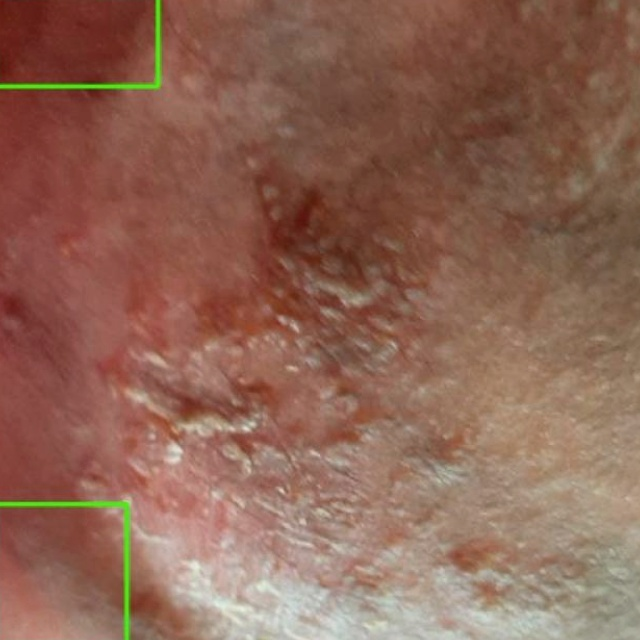Seborrheic Dermatitis: (0, 502, 126, 639), (0, 0, 158, 86)
